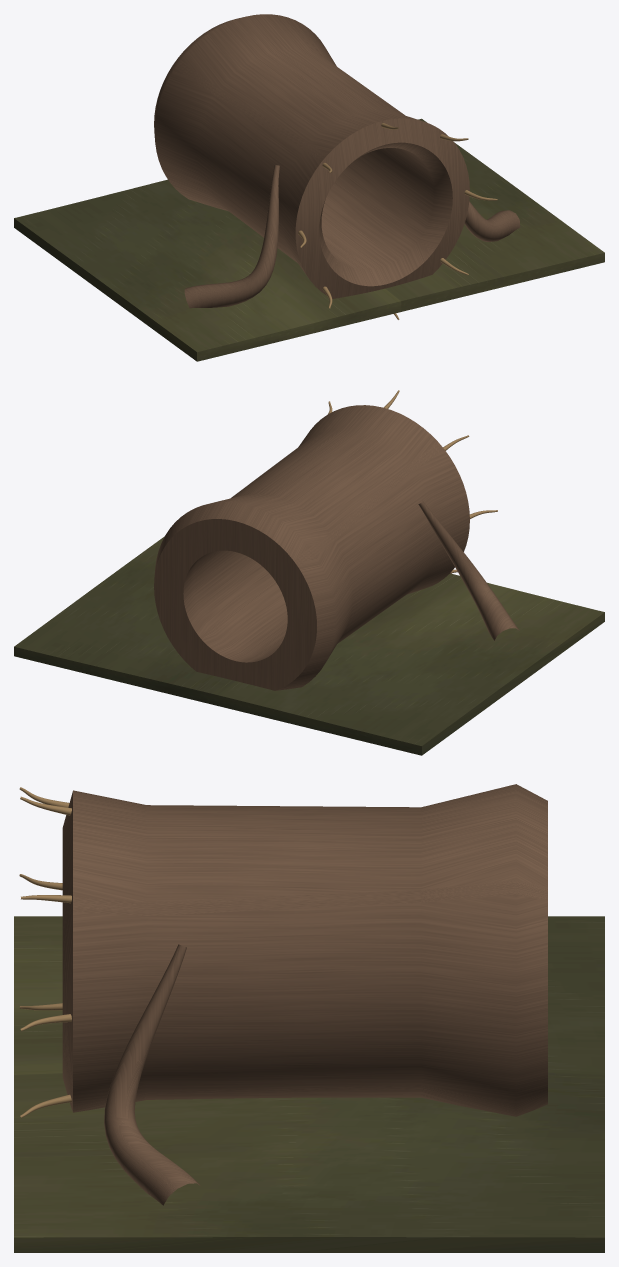
File: bellroot-fen-floodward-marches-hollowlog-mimic-den-c335e107__32930.glb
The picture shows the model from 3 angles, top to bottom: view 1: azimuth 30°, elevation 25°; view 2: azimuth 150°, elevation 25°; view 3: azimuth 270°, elevation 25°; orthographic projection. The views are drawn at different scales.
Parts seen in each view (by area): view 1: hollowlog-mimic-den; view 2: hollowlog-mimic-den; view 3: hollowlog-mimic-den.
Part boxes in pixels (box(x1,y1,x2,y2)): hollowlog-mimic-den: box(14, 14, 604, 361); hollowlog-mimic-den: box(14, 390, 604, 755); hollowlog-mimic-den: box(14, 784, 604, 1252).
Bounding box in the file's own units: 3.6 × 1.63 × 2.8.
3 materials, 3 textured.
